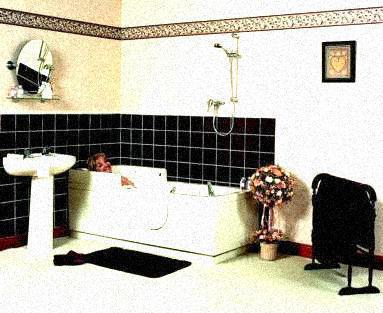Lavamanos: (6, 145, 77, 184)
